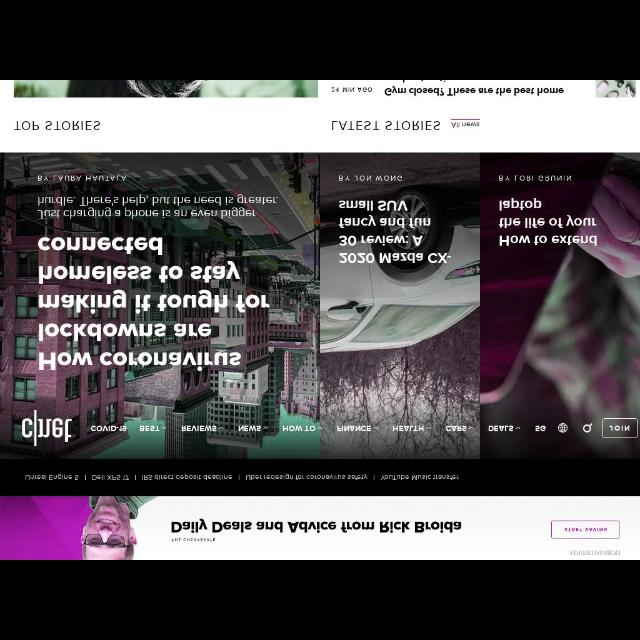backgroundimage: (3, 153, 317, 461), (320, 154, 482, 458), (483, 152, 639, 462)
icon: (582, 422, 596, 436), (558, 422, 568, 433), (161, 423, 169, 433), (217, 426, 225, 432), (425, 425, 433, 431), (469, 426, 477, 432), (318, 424, 322, 434), (265, 423, 269, 432), (373, 426, 379, 432), (516, 427, 522, 431)
iframe: (1, 496, 640, 560)
image: (12, 83, 322, 97), (594, 80, 638, 104)
multitab: (4, 463, 638, 491)
spinner: (332, 420, 383, 438), (276, 420, 326, 438), (388, 420, 434, 438), (232, 420, 272, 440), (178, 422, 226, 438), (486, 419, 526, 438), (442, 422, 478, 436), (134, 422, 170, 436)
text: (36, 192, 280, 222), (29, 259, 240, 289), (36, 348, 242, 374), (33, 320, 213, 344), (35, 294, 272, 312), (385, 85, 571, 98), (37, 233, 169, 251), (342, 248, 454, 266), (20, 412, 72, 448), (16, 116, 108, 134), (329, 120, 443, 134), (497, 213, 598, 227), (500, 235, 600, 249), (335, 216, 433, 228), (378, 470, 459, 484), (332, 198, 412, 212), (336, 236, 424, 248), (244, 474, 372, 482), (139, 471, 233, 481), (494, 197, 546, 213), (36, 174, 132, 182), (497, 174, 575, 182), (20, 472, 81, 482), (89, 469, 131, 483), (336, 174, 406, 182), (329, 84, 375, 96), (82, 424, 128, 434), (453, 118, 485, 130), (180, 424, 216, 434), (392, 422, 424, 433), (282, 424, 316, 434), (336, 422, 370, 432), (138, 422, 160, 436), (445, 424, 469, 434), (489, 423, 513, 432), (234, 426, 260, 434), (612, 423, 630, 433), (535, 423, 549, 433)
textbutton: (602, 418, 638, 440)
toolbar: (8, 414, 640, 448)
